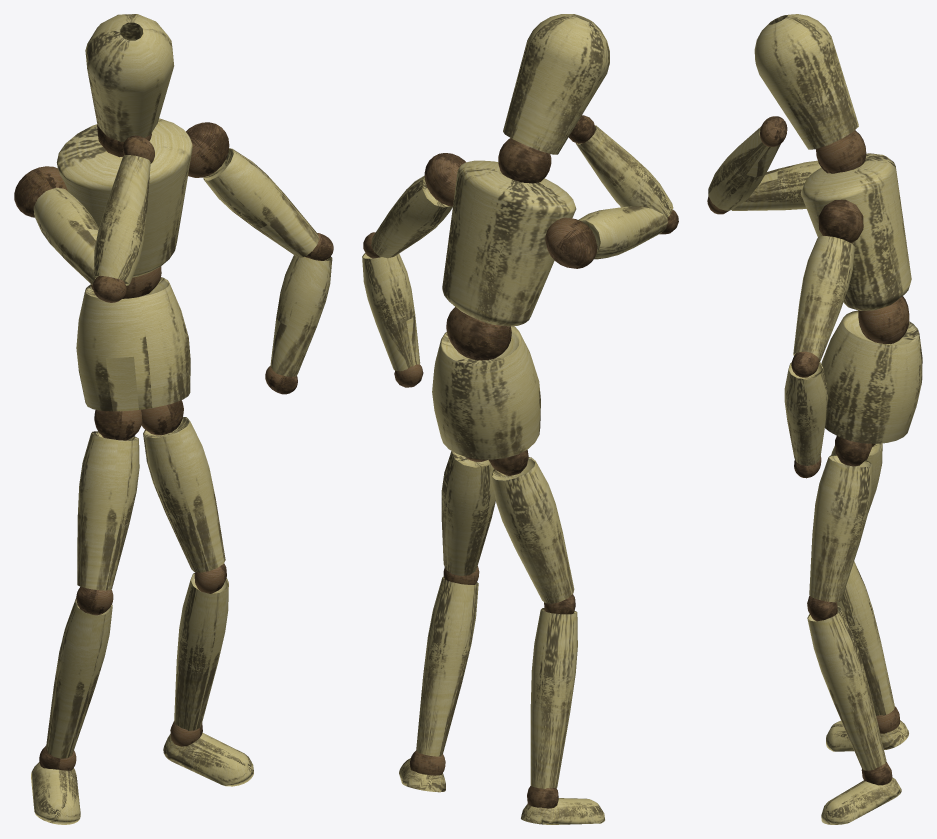
File: mannequin_pose1.obj
3 views of the same model, side by side, from view 1: azimuth 30°, elevation 25°; view 2: azimuth 150°, elevation 25°; view 3: azimuth 270°, elevation 25° (orthographic). The views are drawn at different scales.
Parts seen in each view (by area): view 1: polySurface4 polySurface3, polySurface3 polySurface6, polySurface3 polySurface8, polySurface3 polySurface14, polySurface3 polySurface20, polySurface3 polySurface11, polySurface3 polySurface17, polySurface3 polySurface29, polySurface3 polySurface22, polySurface3 polySurface27, polySurface3 polySurface24, polySurface3 polySurface15 (+10 smaller); view 2: polySurface3 polySurface6, polySurface4 polySurface3, polySurface3 polySurface8, polySurface3 polySurface11, polySurface3 polySurface17, polySurface3 polySurface14, polySurface3 polySurface20, polySurface3 polySurface27, polySurface3 polySurface22, polySurface3 polySurface29, polySurface3 polySurface24, polySurface3 polySurface5 (+8 smaller); view 3: polySurface4 polySurface3, polySurface3 polySurface6, polySurface3 polySurface8, polySurface3 polySurface20, polySurface3 polySurface17, polySurface3 polySurface29, polySurface3 polySurface11, polySurface3 polySurface27, polySurface3 polySurface22, polySurface3 polySurface24, polySurface3 polySurface15, polySurface3 polySurface5 (+10 smaller).
Part boxes in pixels (x1,y1,x2,y2): polySurface4 polySurface3: [76, 277, 190, 411]; polySurface3 polySurface6: [56, 118, 192, 277]; polySurface3 polySurface8: [85, 14, 174, 142]; polySurface3 polySurface14: [77, 431, 139, 590]; polySurface3 polySurface20: [143, 417, 225, 572]; polySurface3 polySurface11: [46, 598, 112, 758]; polySurface3 polySurface17: [174, 572, 228, 730]; polySurface3 polySurface29: [203, 148, 319, 257]; polySurface3 polySurface22: [93, 155, 150, 285]; polySurface3 polySurface27: [270, 255, 332, 376]; polySurface3 polySurface24: [33, 187, 98, 285]; polySurface3 polySurface15: [163, 732, 253, 786]; polySurface3 polySurface6: [442, 160, 576, 326]; polySurface4 polySurface3: [432, 326, 540, 459]; polySurface3 polySurface8: [503, 14, 609, 154]; polySurface3 polySurface11: [530, 608, 577, 788]; polySurface3 polySurface17: [416, 576, 478, 756]; polySurface3 polySurface14: [491, 457, 574, 603]; polySurface3 polySurface20: [441, 451, 495, 575]; polySurface3 polySurface27: [362, 253, 420, 371]; polySurface3 polySurface22: [575, 125, 673, 218]; polySurface3 polySurface29: [371, 175, 452, 258]; polySurface3 polySurface24: [578, 206, 668, 259]; polySurface3 polySurface5: [446, 307, 511, 360]; polySurface4 polySurface3: [821, 310, 922, 443]; polySurface3 polySurface6: [800, 153, 911, 310]; polySurface3 polySurface8: [754, 14, 858, 149]; polySurface3 polySurface20: [809, 455, 872, 602]; polySurface3 polySurface17: [807, 605, 886, 770]; polySurface3 polySurface29: [793, 236, 854, 361]; polySurface3 polySurface11: [836, 561, 894, 715]; polySurface3 polySurface27: [784, 362, 827, 465]; polySurface3 polySurface22: [708, 126, 780, 210]; polySurface3 polySurface24: [732, 160, 821, 210]; polySurface3 polySurface15: [821, 778, 901, 824]; polySurface3 polySurface5: [858, 296, 909, 343].
Size of the model in its own units: 1.33 by 3.67 by 0.9579.
Materials: 1 (1 with a texture image).
